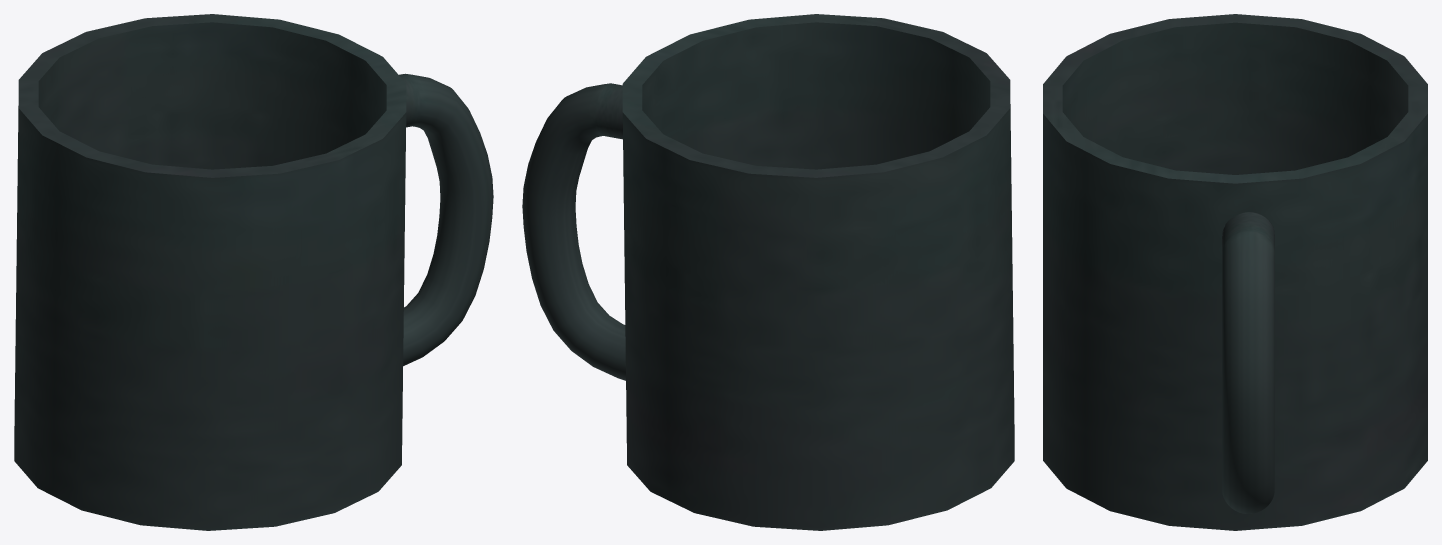
The model's file is mug.FBX.
3 views of the same model, side by side, from view 1: azimuth 30°, elevation 25°; view 2: azimuth 150°, elevation 25°; view 3: azimuth 270°, elevation 25° (orthographic).
Parts seen in each view (by area): view 1: Cylinder004, Object001; view 2: Cylinder004, Object001; view 3: Cylinder004, Object001.
Part boxes in pixels (<box>): Cylinder004: <box>14,14,406,530</box>; Object001: <box>399,73,493,366</box>; Cylinder004: <box>622,14,1014,530</box>; Object001: <box>522,83,625,380</box>; Cylinder004: <box>1043,14,1427,530</box>; Object001: <box>1222,212,1274,513</box>.
Bounding box in the file's own units: 47.06 × 34.96 × 34.42.
